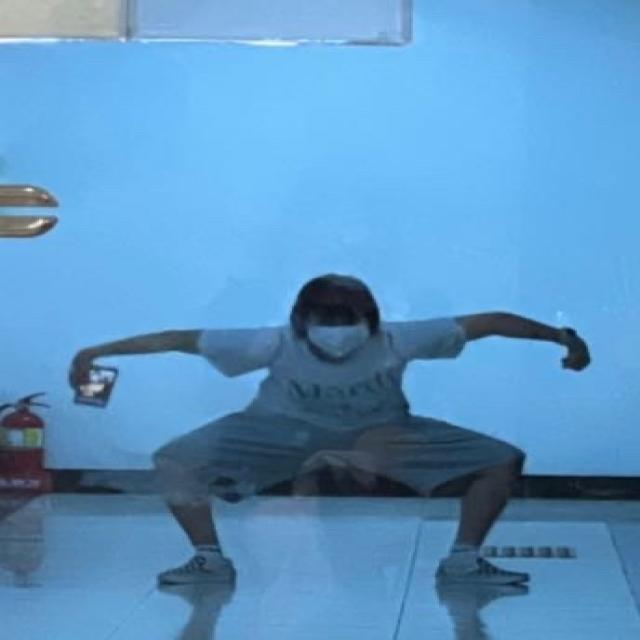shortpants: (152, 405, 524, 502)
shortsleeve: (198, 318, 468, 430)
